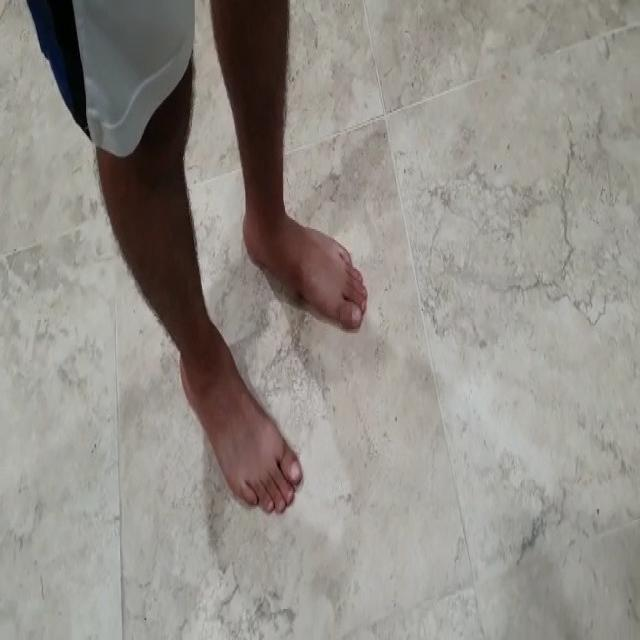no-boots: (156, 328, 300, 522), (242, 184, 378, 344)
